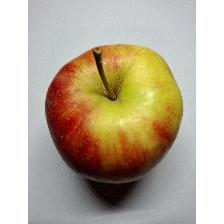Apfel: (43, 43, 184, 185)
